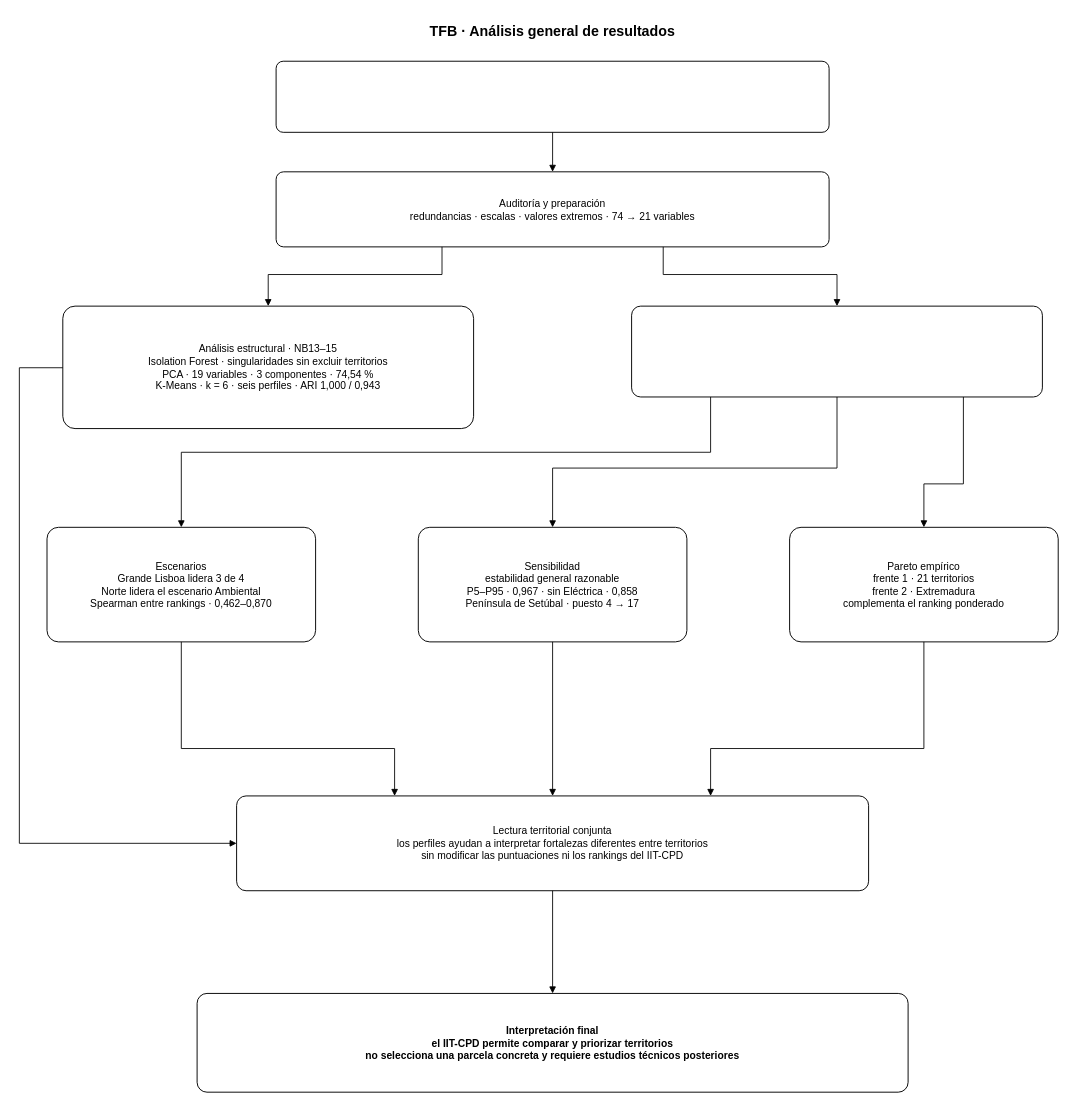
Some shapes in this 1073 by 1106 pixel diagram are drawn without their labels. The box of each missing label's shape, as (x1, y1, x2, y2) in pixels:
Base analítica 22 NUTS 2 comparables · Andorra complementaria · 74 variables: (275, 60, 829, 132)
IIT-CPD · NB16 16 variables activas · 8 dimensiones · 4 escenarios: (631, 305, 1042, 397)
